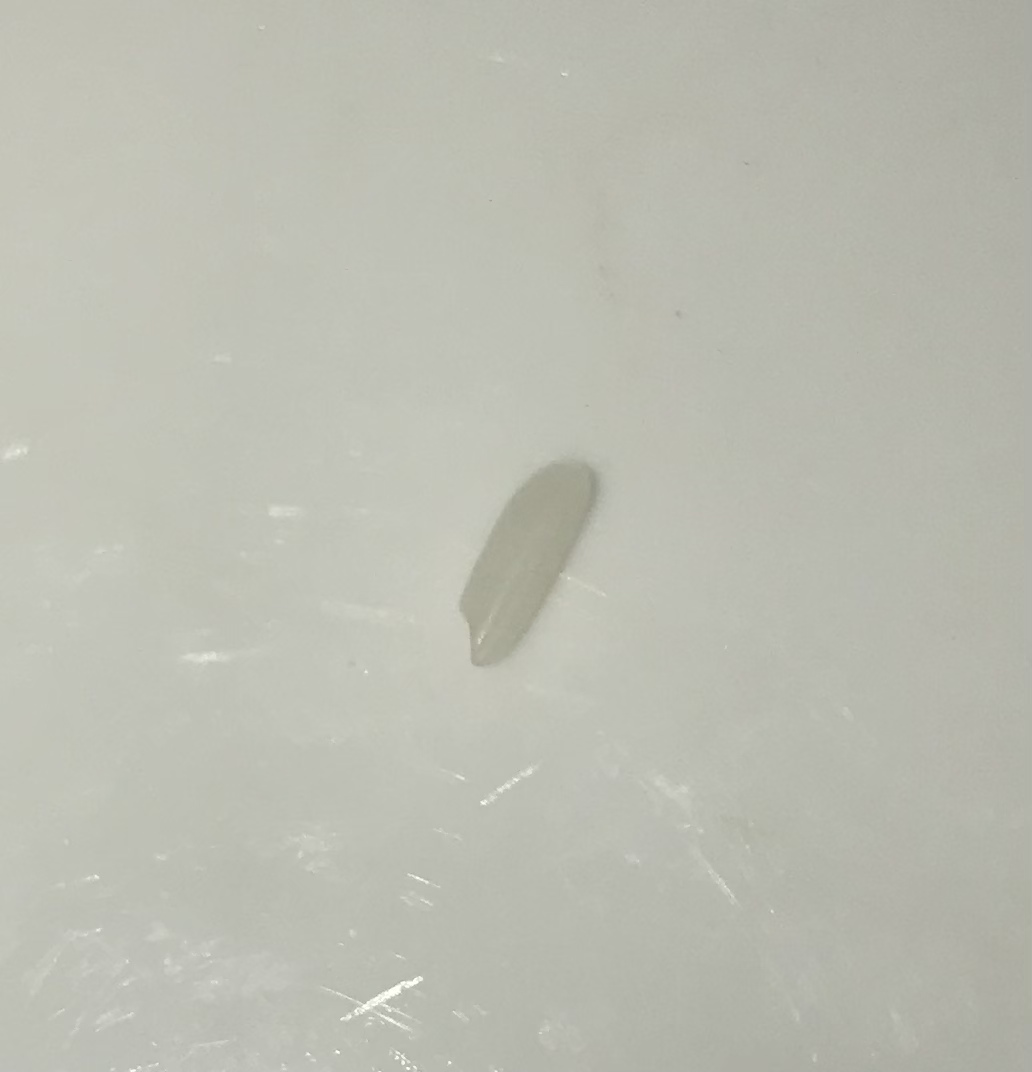Gao Lai Sua: (455, 435, 609, 680)
